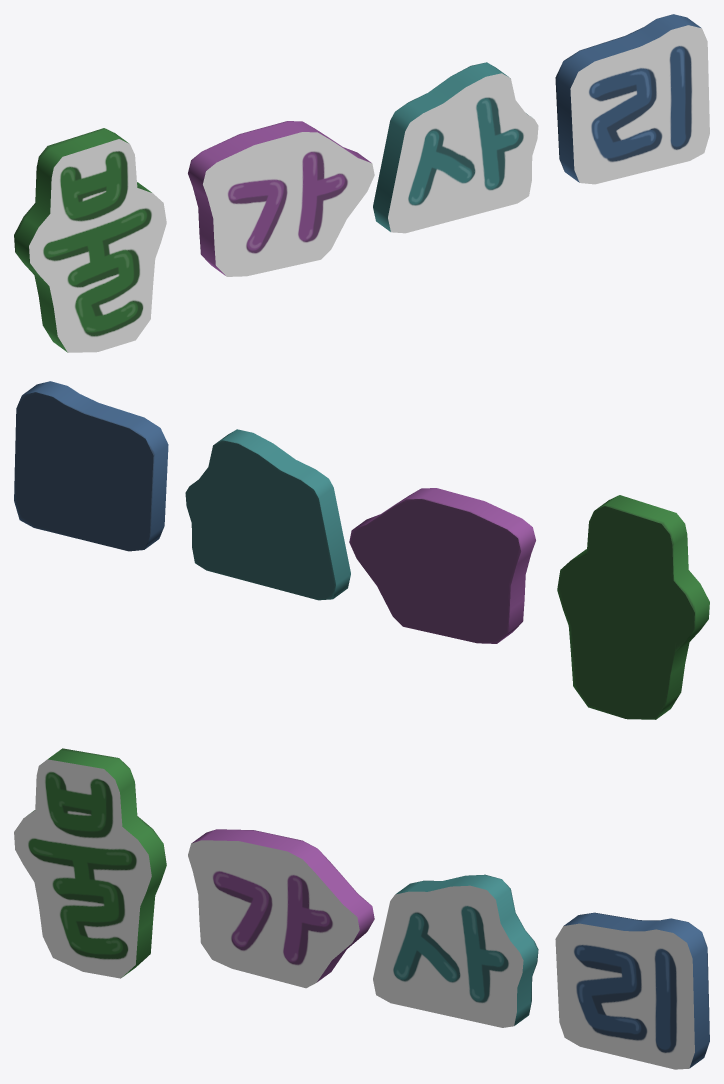
Rendered from 불가사리제목1.FBX.
3 renders of one model, top to bottom at view 1: azimuth 30°, elevation 25°; view 2: azimuth 150°, elevation 25°; view 3: azimuth 330°, elevation 25°, orthographic.
Parts seen in each view (by area): view 1: Line005, Line006, Line008, Line007; view 2: Line005, Line006, Line008, Line007; view 3: Line005, Line006, Line008, Line007.
Boxes of the visible parts, bbox=[...] form: Line005: bbox=[14, 128, 166, 352]; Line006: bbox=[188, 121, 374, 276]; Line008: bbox=[555, 14, 709, 184]; Line007: bbox=[373, 62, 538, 233]; Line005: bbox=[557, 495, 709, 719]; Line006: bbox=[349, 488, 535, 643]; Line008: bbox=[14, 381, 168, 551]; Line007: bbox=[185, 429, 350, 600]; Line005: bbox=[14, 748, 166, 978]; Line006: bbox=[188, 829, 374, 988]; Line008: bbox=[555, 912, 709, 1069]; Line007: bbox=[373, 874, 538, 1027].
Bounding box in the file's own units: 341 × 99.55 × 13.
